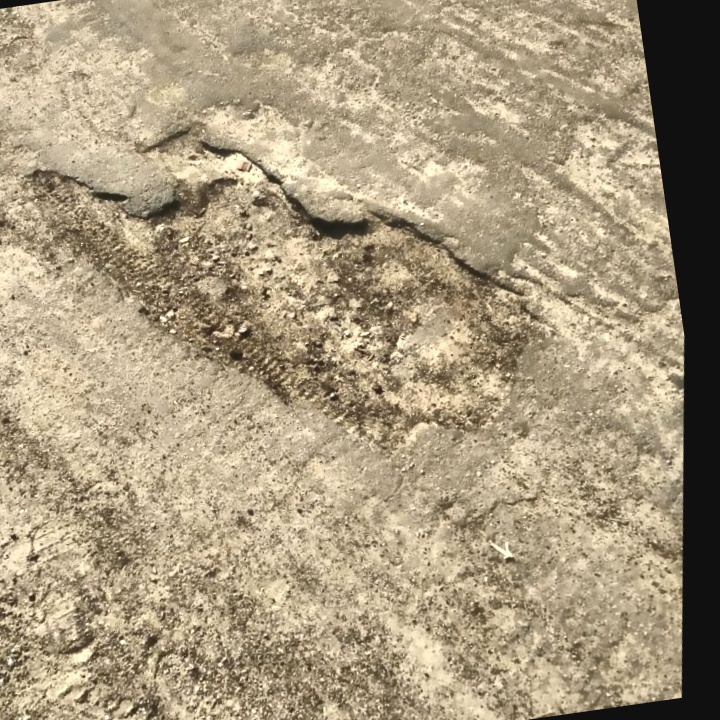pothole: (0, 43, 602, 541)
